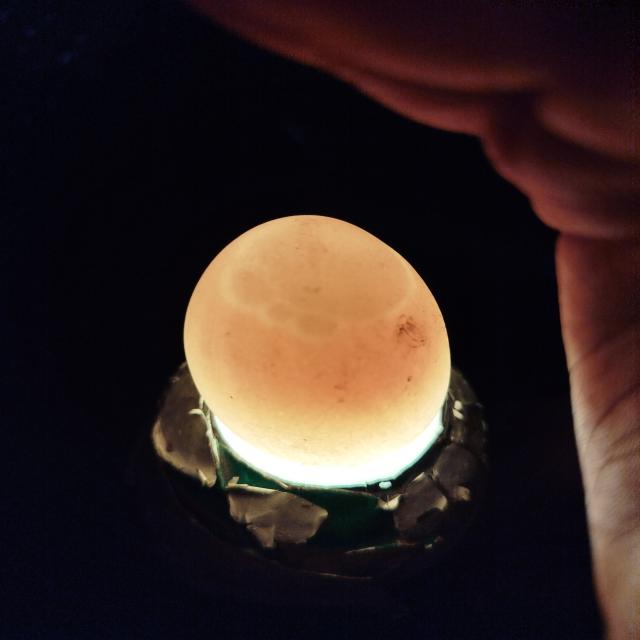Camara de Ar: (222, 215, 413, 341)
